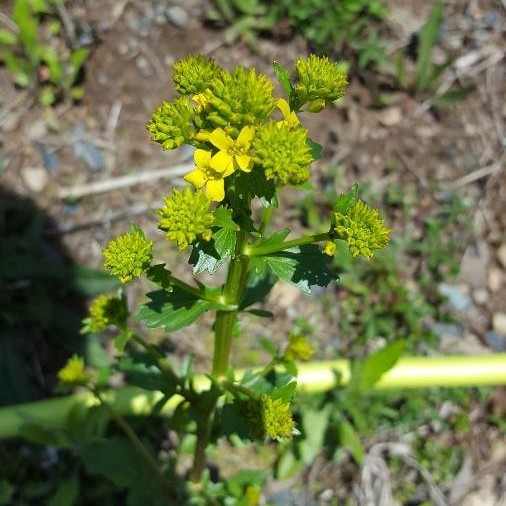obstacle: (120, 67, 370, 435)
